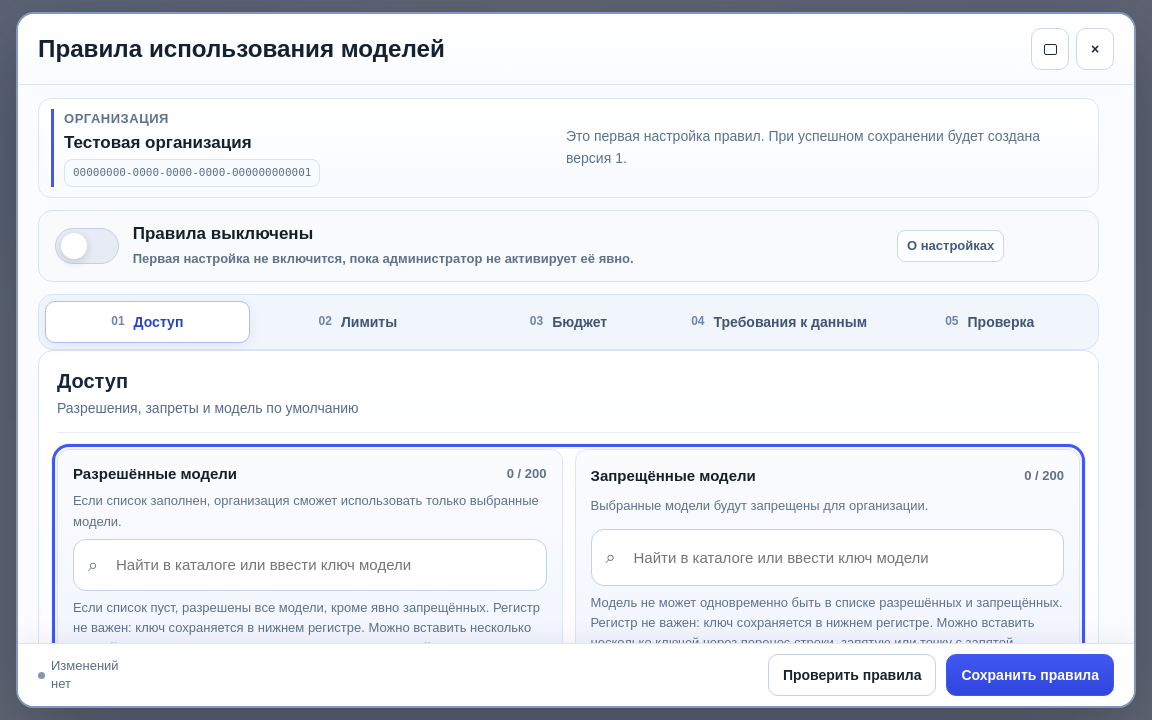
ModelPolicyModal: раздельные вкладки и единый черновик › отображает пять логических вкладок, и скрытые панели не доступны для навигации
This screenshot has width=1152, height=720.
expect the checkbox labelled "Не использовать данные для обучения" is not shown: met
Step 1. Click the tab "04 Требования к данным" → click(779, 322), box [677,301,881,343]
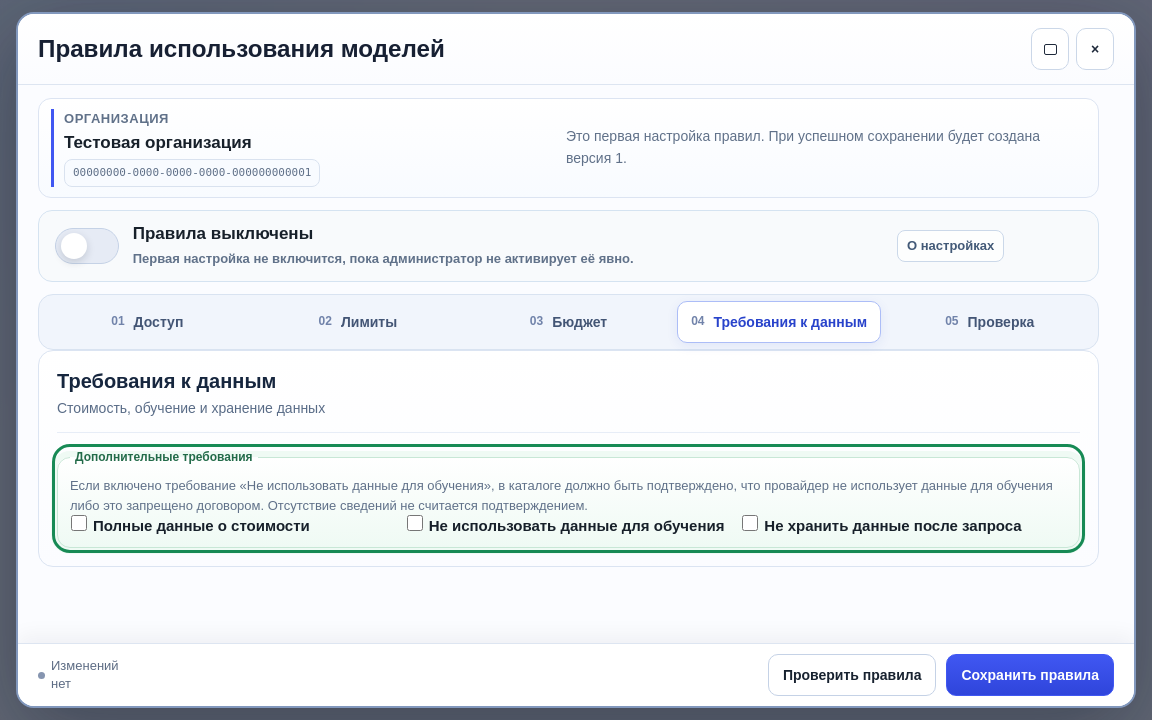
expect the checkbox labelled "Не использовать данные для обучения" is shown: met, box [406,515,424,531]
